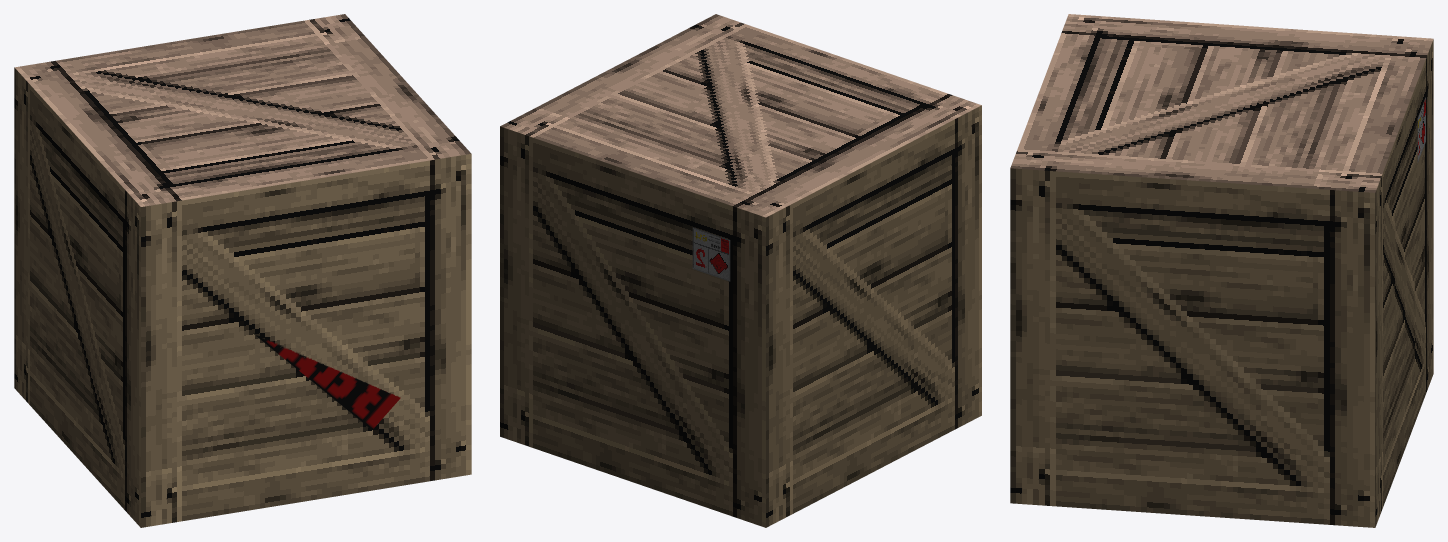
File: primary_367.glb
The picture shows the model from 3 angles, left to right: view 1: azimuth 30°, elevation 25°; view 2: azimuth 150°, elevation 25°; view 3: azimuth 270°, elevation 25°; orthographic projection. The views are drawn at different scales.
Parts seen in each view (by area): view 1: Object; view 2: Object; view 3: Object.
Part boxes in pixels (x1,y1,x2,y2): Object: (14,14,471,527); Object: (500,14,981,527); Object: (1010,14,1433,527).
Size of the model in its own units: 1.09 by 0.9497 by 1.09.
7 materials, 7 textured.
